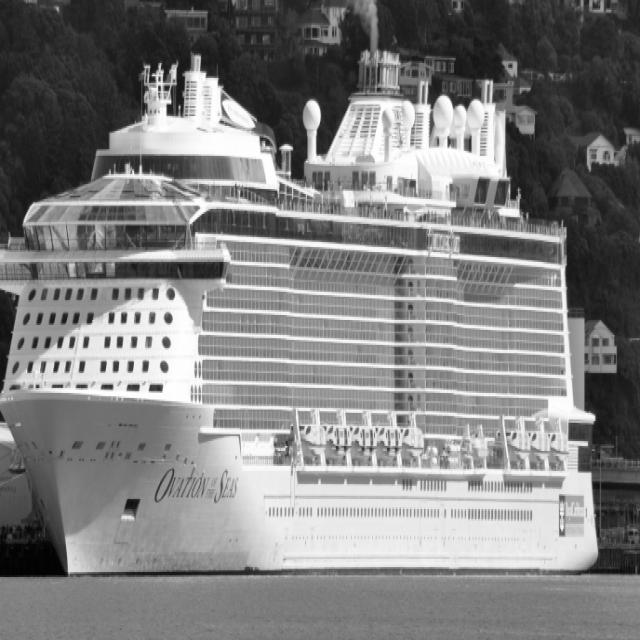cruises: (1, 5, 610, 586)
